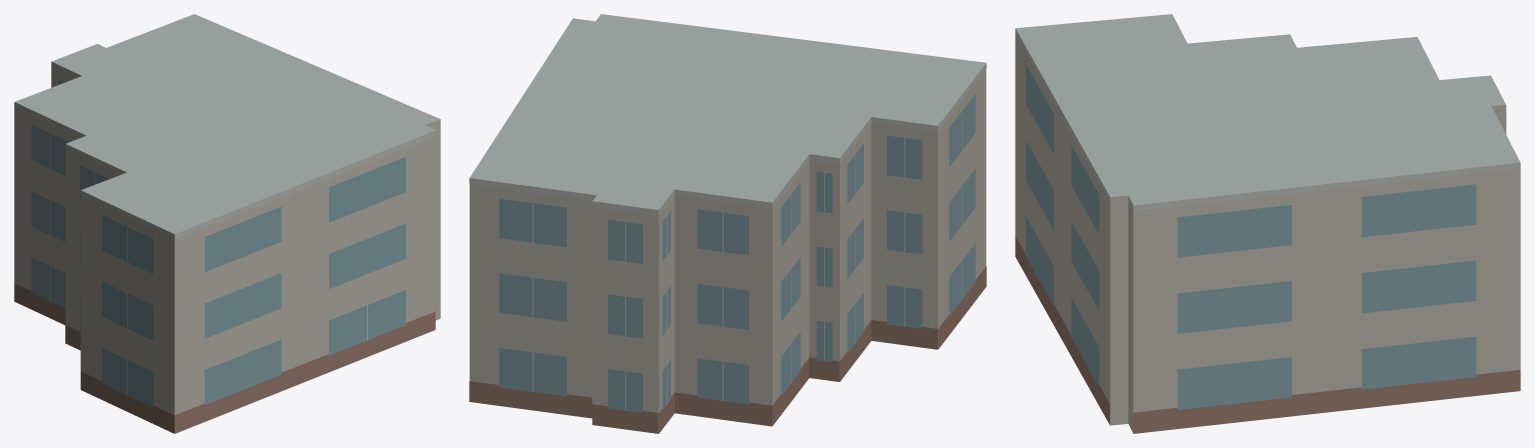
Rendered from survey-upis-32834281.glb.
The picture shows the model from 3 angles, left to right: view 1: azimuth 30°, elevation 25°; view 2: azimuth 150°, elevation 25°; view 3: azimuth 270°, elevation 25°; orthographic projection. The views are drawn at different scales.
Visible parts, largest first — view 1: survey-upis-32834281.tmp; view 2: survey-upis-32834281.tmp; view 3: survey-upis-32834281.tmp.
Part boxes in pixels (left/top/right/bottom): survey-upis-32834281.tmp: left=14, top=14, right=440, bottom=433; survey-upis-32834281.tmp: left=469, top=14, right=986, bottom=433; survey-upis-32834281.tmp: left=1015, top=14, right=1520, bottom=433.
Size of the model in its own units: 16.45 by 9.15 by 18.35.
